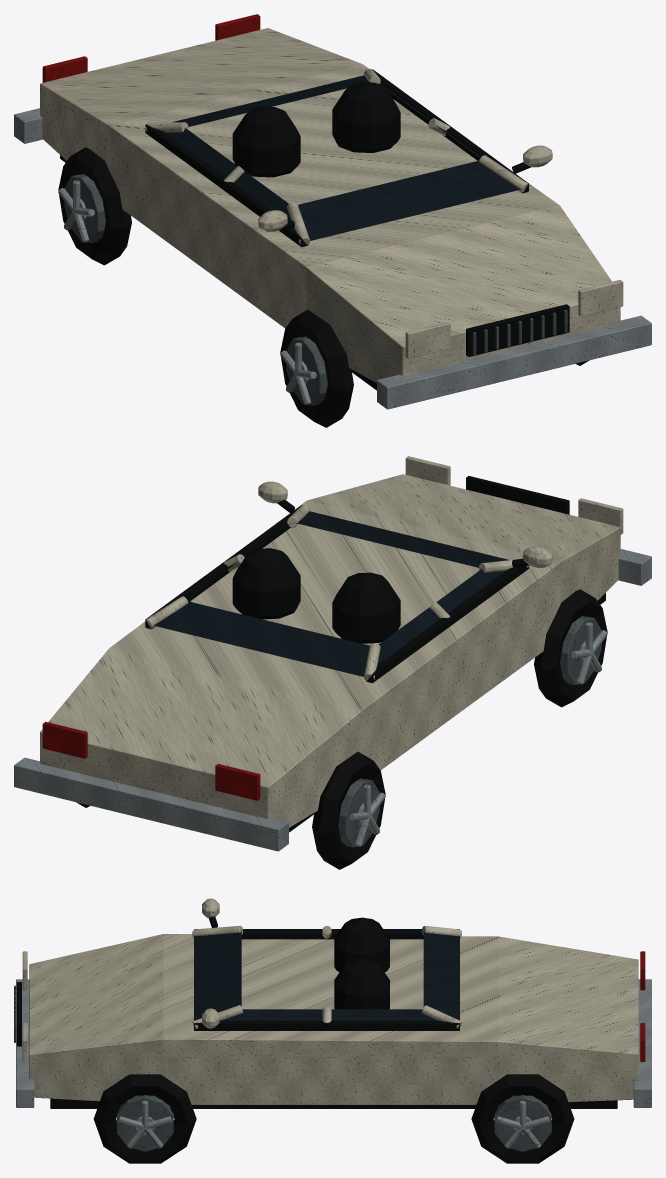
File: PROP-4250C1AC6917_lod1.glb
3 renders of one model, top to bottom at view 1: azimuth 30°, elevation 25°; view 2: azimuth 150°, elevation 25°; view 3: azimuth 270°, elevation 25°, orthographic. The views are drawn at different scales.
Visible parts, largest first — view 1: shaped_body_panels.012, sloped_cabin_glazing.012, bumper.012, convertible_seats.002, tire.012, window_belt.012, rim.012, lamp_lenses.024, radiator_grille.012, window_pillars.012, rim_spokes.012, lamp_lenses.025 (+2 smaller); view 2: shaped_body_panels.012, sloped_cabin_glazing.012, bumper.012, convertible_seats.002, tire.012, window_belt.012, rim.012, lamp_lenses.025, window_pillars.012, lamp_lenses.024, rim_spokes.012, radiator_grille.012 (+1 smaller); view 3: shaped_body_panels.012, sloped_cabin_glazing.012, tire.012, convertible_seats.002, window_belt.012, rim.012, bumper.012, chassis.012, rim_spokes.012, window_pillars.012, mirror.012, lamp_lenses.024 (+1 smaller).
Boxes of the visible parts, x1=… form: shaped_body_panels.012: x1=40, y1=28, x2=620, y2=382; sloped_cabin_glazing.012: x1=165, y1=75, x2=520, y2=240; bumper.012: x1=14, y1=108, x2=651, y2=409; convertible_seats.002: x1=232, y1=82, x2=400, y2=177; tire.012: x1=58, y1=147, x2=589, y2=427; window_belt.012: x1=145, y1=69, x2=528, y2=247; rim.012: x1=64, y1=174, x2=327, y2=405; lamp_lenses.024: x1=405, y1=279, x2=623, y2=358; radiator_grille.012: x1=466, y1=304, x2=569, y2=356; window_pillars.012: x1=145, y1=68, x2=527, y2=244; rim_spokes.012: x1=58, y1=180, x2=316, y2=404; lamp_lenses.025: x1=42, y1=14, x2=260, y2=82; shaped_body_panels.012: x1=40, y1=474, x2=620, y2=827; sloped_cabin_glazing.012: x1=154, y1=511, x2=508, y2=676; bumper.012: x1=14, y1=549, x2=651, y2=851; convertible_seats.002: x1=232, y1=548, x2=400, y2=643; tire.012: x1=76, y1=589, x2=607, y2=869; window_belt.012: x1=145, y1=505, x2=528, y2=683; rim.012: x1=338, y1=616, x2=601, y2=847; lamp_lenses.025: x1=42, y1=721, x2=260, y2=800; window_pillars.012: x1=146, y1=504, x2=528, y2=681; lamp_lenses.024: x1=405, y1=456, x2=623, y2=534; rim_spokes.012: x1=349, y1=622, x2=607, y2=846; radiator_grille.012: x1=466, y1=476, x2=569, y2=514; shaped_body_panels.012: x1=29, y1=934, x2=638, y2=1104; sloped_cabin_glazing.012: x1=194, y1=930, x2=459, y2=1020; tire.012: x1=93, y1=1074, x2=574, y2=1163; convertible_seats.002: x1=334, y1=917, x2=389, y2=1009; window_belt.012: x1=194, y1=929, x2=459, y2=1030; rim.012: x1=116, y1=1095, x2=551, y2=1151; bumper.012: x1=16, y1=979, x2=651, y2=1107; chassis.012: x1=50, y1=1098, x2=617, y2=1108; rim_spokes.012: x1=118, y1=1100, x2=549, y2=1148; window_pillars.012: x1=192, y1=925, x2=461, y2=1028; mirror.012: x1=202, y1=898, x2=219, y2=1028; lamp_lenses.024: x1=22, y1=951, x2=27, y2=1061.
Size of the model in its own units: 2.09 by 1.35 by 4.56.
7 materials, 7 textured.
